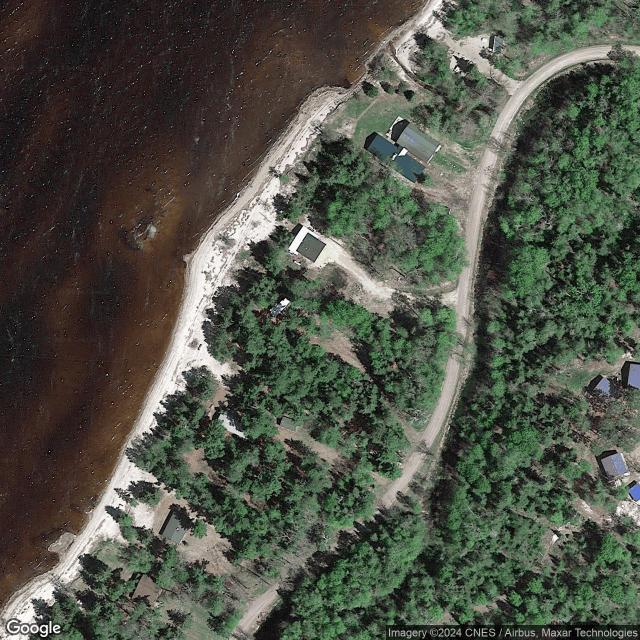Propane: (292, 259, 302, 266)
